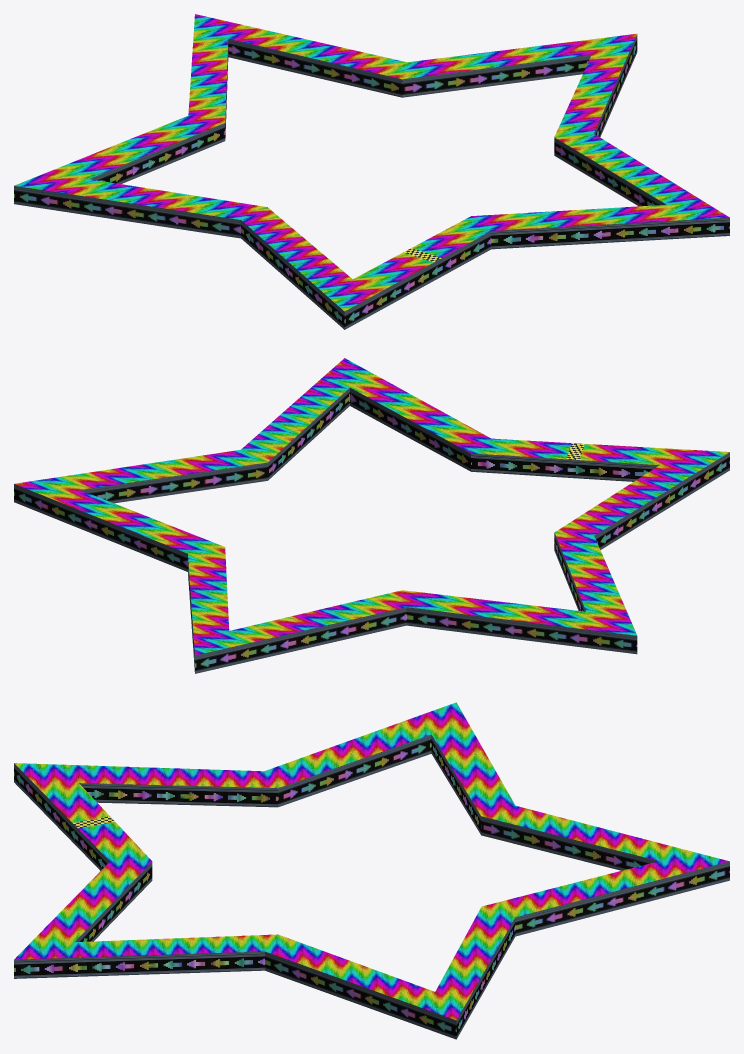
3 renders of one model, top to bottom at view 1: azimuth 30°, elevation 25°; view 2: azimuth 150°, elevation 25°; view 3: azimuth 270°, elevation 25°, orthographic. The views are drawn at different scales.
Parts seen in each view (by area): view 1: course-SKP--star_road.001, course-SKP--star_wall1.001, course-SKP--star_wall2.001; view 2: course-SKP--star_road.001, course-SKP--star_wall1.001, course-SKP--star_wall2.001; view 3: course-SKP--star_road.001, course-SKP--star_wall1.001, course-SKP--star_wall2.001.
Part boxes in pixels (box(x1,y1,x2,y2)): course-SKP--star_road.001: box(14, 14, 729, 311); course-SKP--star_wall1.001: box(14, 34, 729, 329); course-SKP--star_wall2.001: box(89, 39, 665, 206); course-SKP--star_road.001: box(14, 358, 729, 655); course-SKP--star_wall1.001: box(14, 452, 729, 673); course-SKP--star_wall2.001: box(80, 387, 659, 611); course-SKP--star_road.001: box(14, 702, 729, 1020); course-SKP--star_wall1.001: box(14, 763, 729, 1039); course-SKP--star_wall2.001: box(75, 734, 658, 942).
Bounding box in the file's own units: 53259 × 1500 × 50652.
5 materials, 5 textured.
